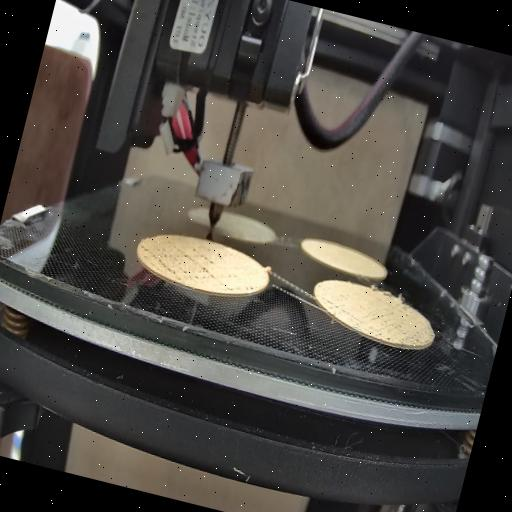under_extrusion: (138, 231, 222, 285), (362, 304, 426, 348), (223, 272, 259, 302), (316, 297, 359, 321)
